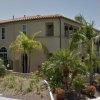Palm tree: (71, 16, 99, 63)
